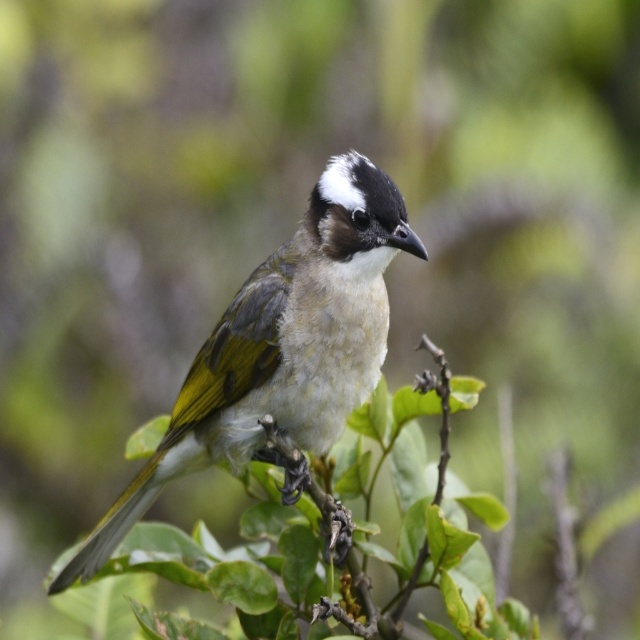Sparrow: (47, 147, 428, 594)
